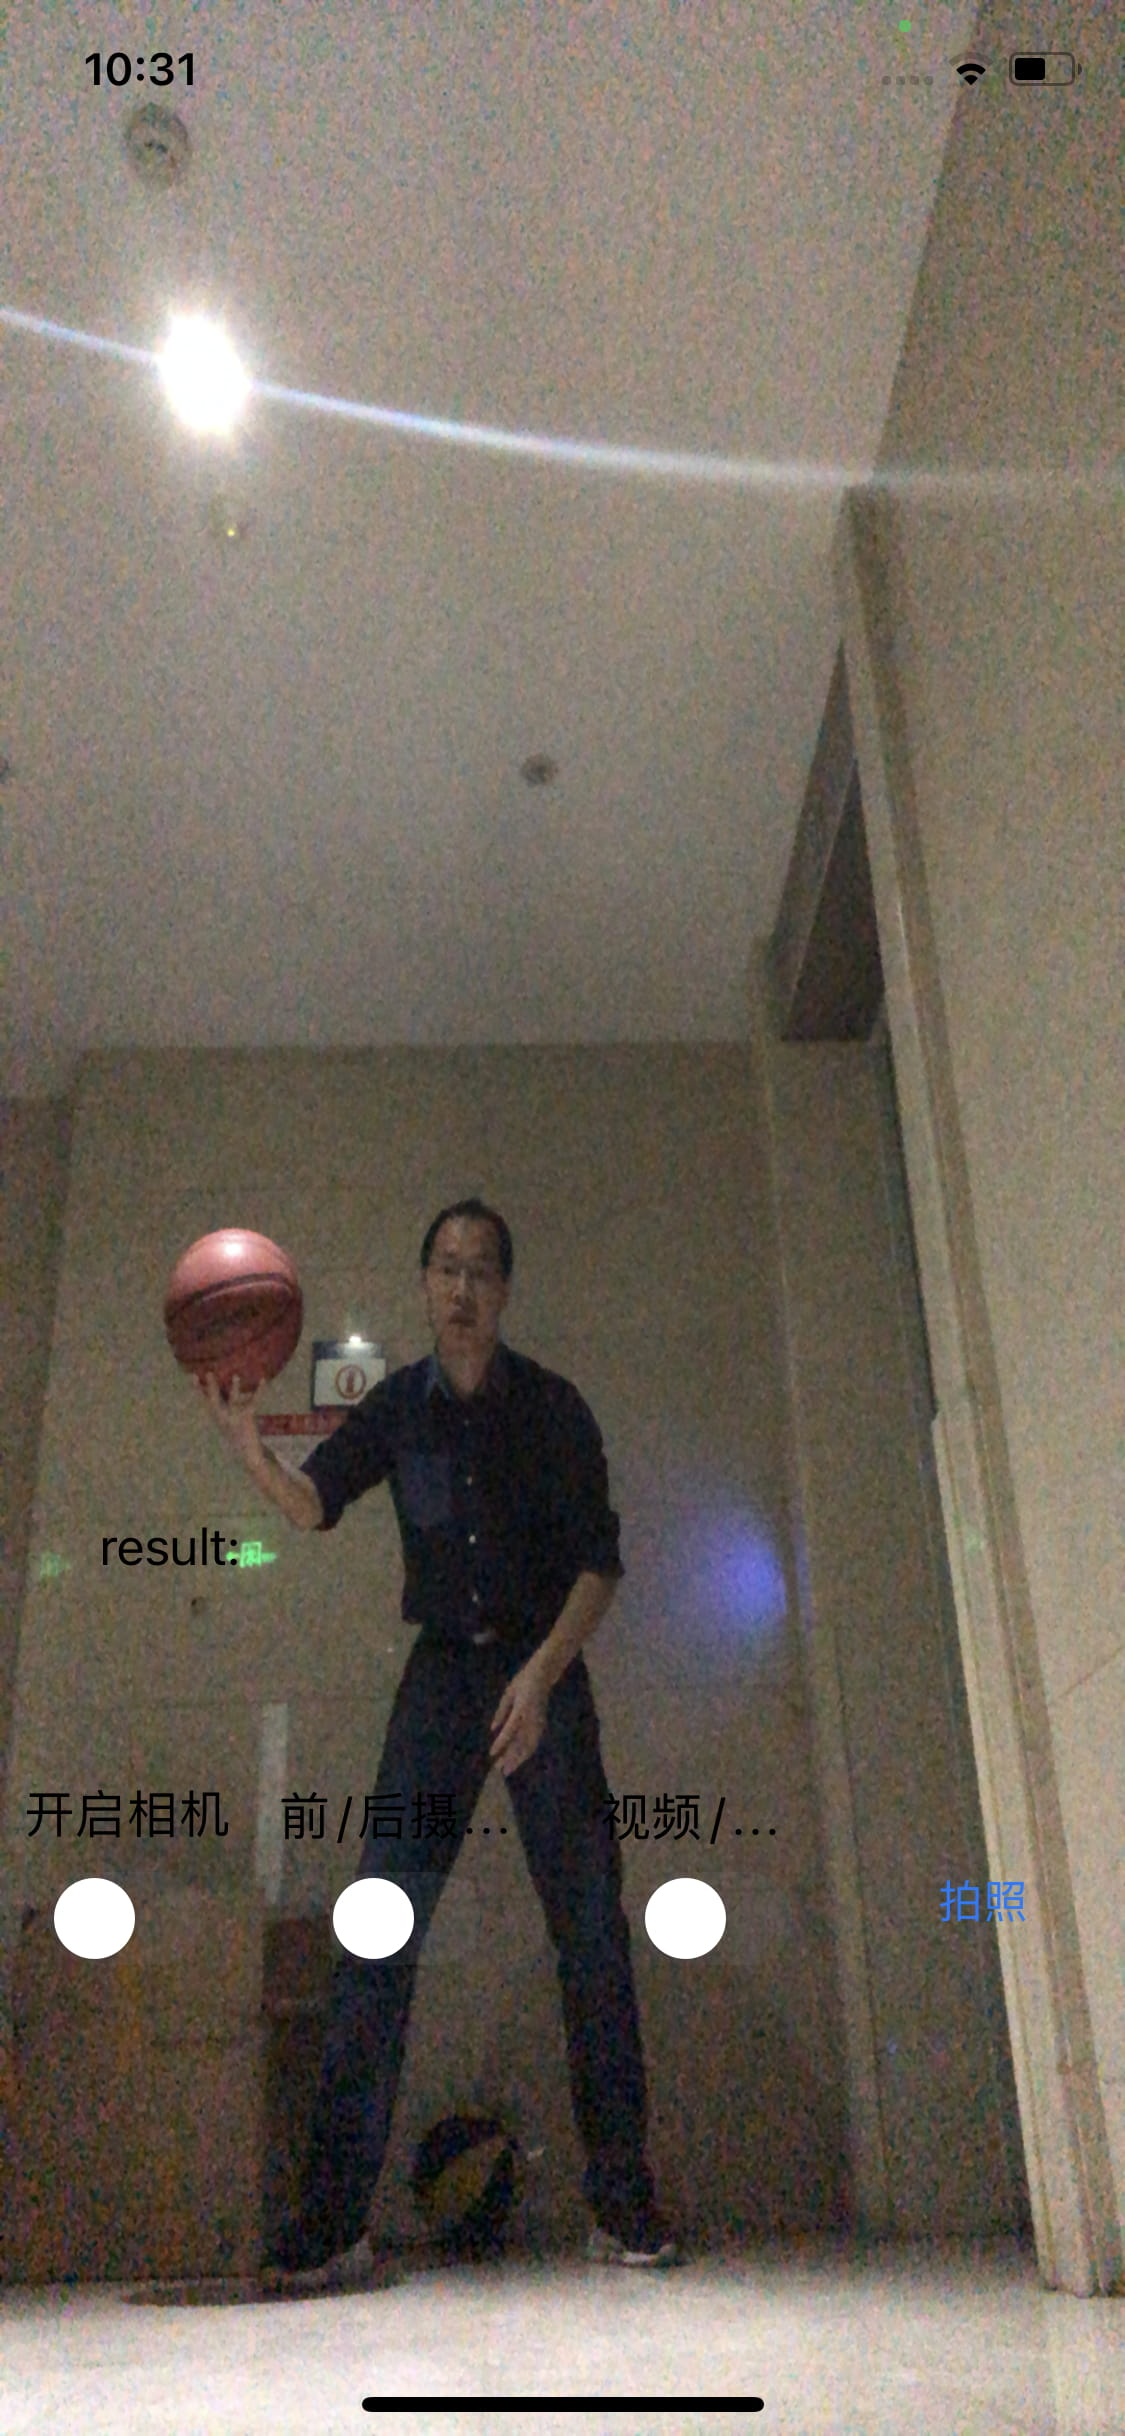ball: (169, 1227, 306, 1387)
